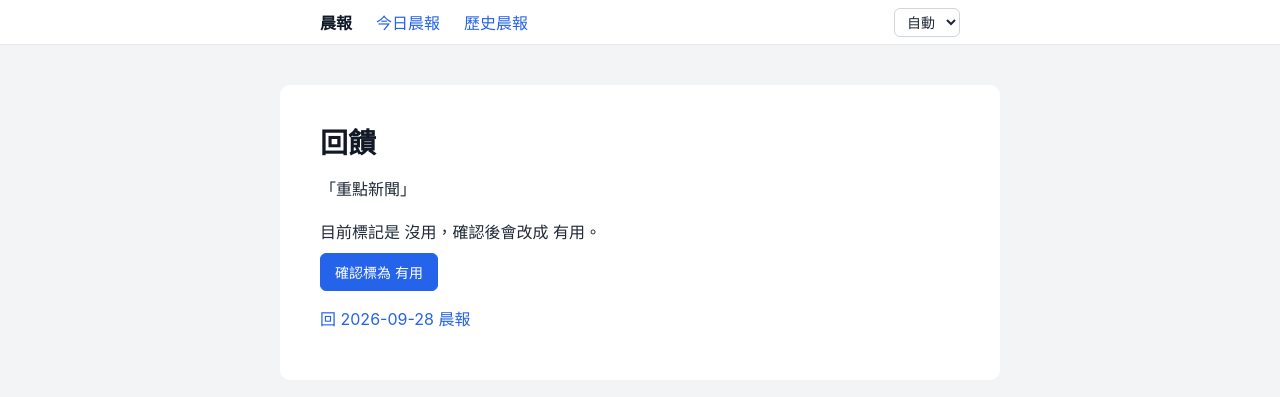
Test case: /feedback/<uid>（email 連結的確認頁） › 目前是沒用、信裡按有用：說明會改成有用，確認後送 +
The width and height of the screenshot is (1280, 397).
Check: the text "目前標記是 沒用，確認後會改成 有用。" is shown, box 320,222 -> 601,242
Step 1. Click the button "確認標為 有用" → point(379, 272), box 320,253 -> 438,291
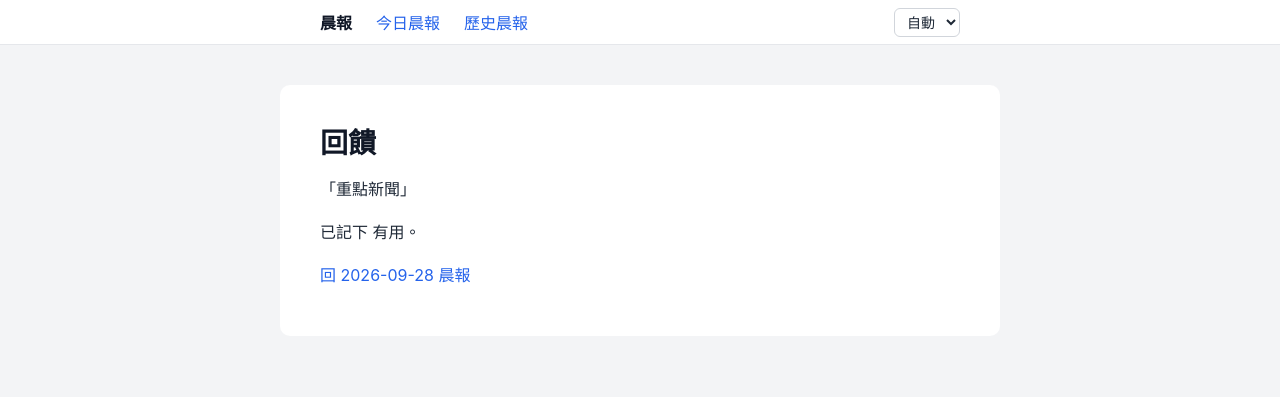
Check: the text "已記下 有用。" is shown, box 320,222 -> 420,242
